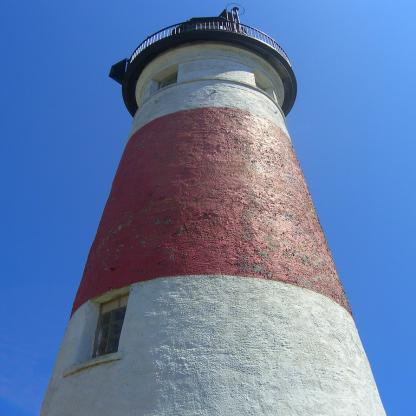lighthouse: (49, 11, 393, 400)
